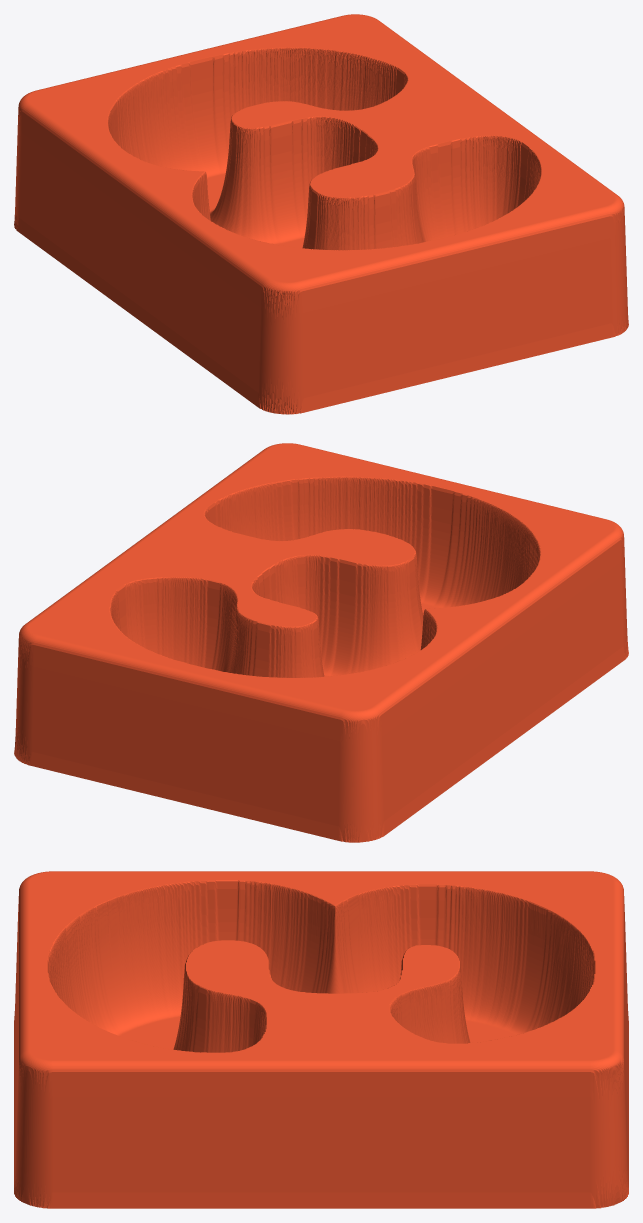
File: mold.glb
The picture shows the model from 3 angles, top to bottom: view 1: azimuth 30°, elevation 25°; view 2: azimuth 150°, elevation 25°; view 3: azimuth 270°, elevation 25°; orthographic projection. The views are drawn at different scales.
Parts seen in each view (by area): view 1: geometry_0; view 2: geometry_0; view 3: geometry_0.
Boxes of the visible parts, x1,y1,x2,y2 form: geometry_0: [14, 14, 628, 414]; geometry_0: [14, 443, 628, 842]; geometry_0: [14, 871, 628, 1208].
Bounding box in the file's own units: 0.111 × 0.0365 × 0.1435.
